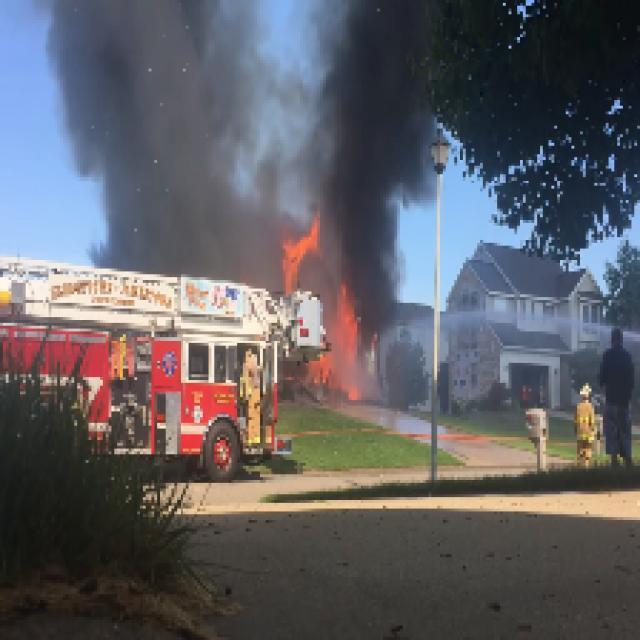Fire: (280, 214, 320, 286)
Smoke: (57, 2, 272, 258), (279, 3, 432, 203), (348, 208, 412, 294)
